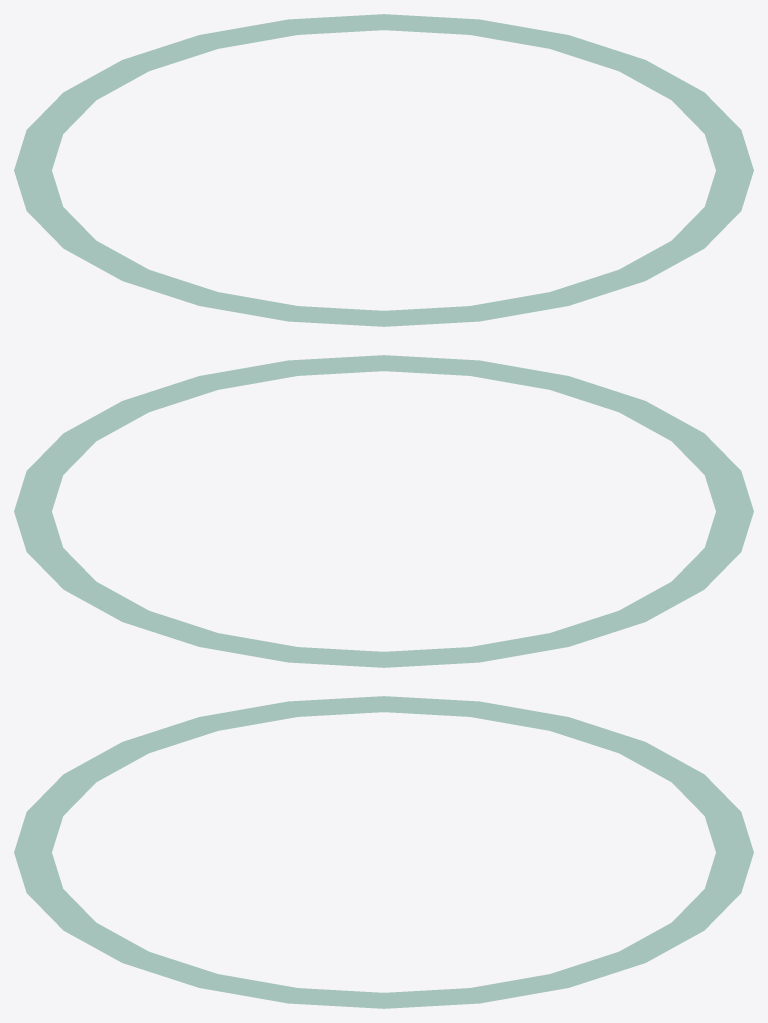
The model's file is water_ripple_ring.glb.
The picture shows the model from 3 angles, top to bottom: view 1: azimuth 30°, elevation 25°; view 2: azimuth 150°, elevation 25°; view 3: azimuth 270°, elevation 25°; orthographic projection.
Parts seen in each view (by area): view 1: ripple; view 2: ripple; view 3: ripple.
Part boxes in pixels (bbox=[...]): ripple: bbox=[14, 14, 753, 326]; ripple: bbox=[14, 355, 753, 667]; ripple: bbox=[14, 696, 753, 1008].
Bounding box in the file's own units: 0.78 × 0 × 0.78.
